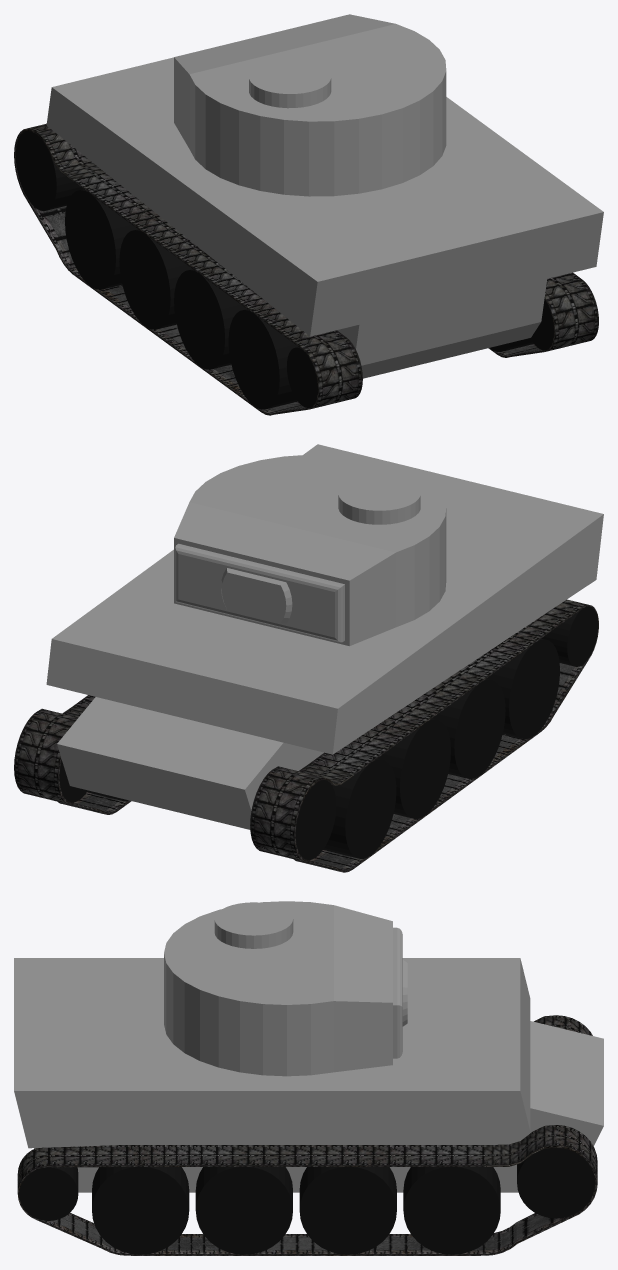
Rendered from tiger1.obj.
The picture shows the model from 3 angles, top to bottom: view 1: azimuth 30°, elevation 25°; view 2: azimuth 150°, elevation 25°; view 3: azimuth 270°, elevation 25°; orthographic projection. The views are drawn at different scales.
Visible parts, largest first — view 1: Corpus.001, Turret2, Caterpillar.005, Weel.024, Weel.023, Weel.022, Weel.016, Caterpillar.004, Com, Weel.021, Weel.025, Weel.020; view 2: Corpus.001, Turret2, Caterpillar.005, Caterpillar.004, Weel.016, Weel.023, Weel.022, Weel.024, Com, mask, Weel.021, Weel.025; view 3: Corpus.001, Turret2, Caterpillar.004, Weel.014, Weel.018, Weel.017, Weel.019, Weel.015, Com, Weel.020, Caterpillar.005.
Part boxes in pixels (bbox=[...]): Corpus.001: bbox=[46, 57, 603, 378]; Turret2: bbox=[174, 14, 446, 196]; Caterpillar.005: bbox=[14, 123, 362, 415]; Weel.024: bbox=[228, 309, 297, 409]; Weel.023: bbox=[174, 269, 246, 369]; Weel.022: bbox=[119, 229, 192, 329]; Weel.016: bbox=[65, 189, 137, 289]; Caterpillar.004: bbox=[488, 272, 598, 357]; Com: bbox=[249, 59, 331, 108]; Weel.021: bbox=[15, 131, 83, 211]; Weel.025: bbox=[287, 347, 317, 407]; Weel.020: bbox=[530, 299, 553, 350]; Corpus.001: bbox=[46, 444, 603, 829]; Turret2: bbox=[174, 454, 446, 646]; Caterpillar.005: bbox=[250, 599, 598, 872]; Caterpillar.004: bbox=[14, 695, 131, 814]; Weel.016: bbox=[323, 758, 396, 858]; Weel.023: bbox=[432, 678, 505, 779]; Weel.022: bbox=[378, 718, 450, 819]; Weel.024: bbox=[487, 638, 559, 739]; Com: bbox=[338, 476, 420, 524]; mask: bbox=[221, 568, 292, 623]; Weel.021: bbox=[296, 779, 336, 860]; Weel.025: bbox=[541, 606, 598, 666]; Corpus.001: bbox=[14, 958, 603, 1192]; Turret2: bbox=[164, 901, 402, 1076]; Caterpillar.004: bbox=[17, 1125, 597, 1255]; Weel.014: bbox=[403, 1167, 500, 1254]; Weel.018: bbox=[195, 1167, 292, 1254]; Weel.017: bbox=[299, 1167, 396, 1254]; Weel.019: bbox=[92, 1167, 189, 1254]; Weel.015: bbox=[517, 1148, 594, 1218]; Com: bbox=[214, 902, 293, 948]; Weel.020: bbox=[19, 1167, 78, 1220]; Caterpillar.005: bbox=[534, 1015, 592, 1035].
Size of the model in its own units: 3.2 by 2.82 by 6.
3 materials, 1 textured.
